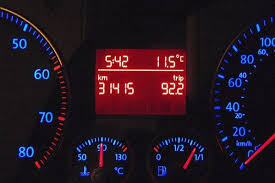Digital_Meter: (97, 71, 143, 100)
